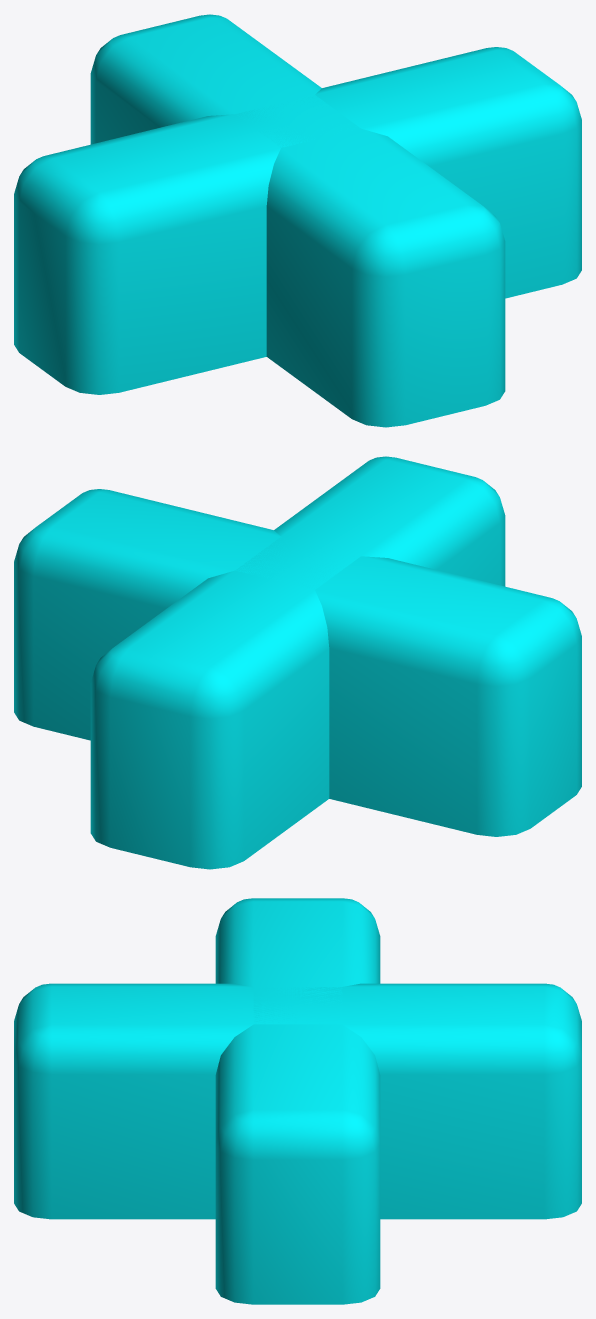
File: DecorMachine_Buttons_ZoomIn.FBX
3 renders of one model, top to bottom at view 1: azimuth 30°, elevation 25°; view 2: azimuth 150°, elevation 25°; view 3: azimuth 270°, elevation 25°, orthographic. The views are drawn at different scales.
Visible parts, largest first — view 1: DecorMachine_Buttons_ZoomIn; view 2: DecorMachine_Buttons_ZoomIn; view 3: DecorMachine_Buttons_ZoomIn.
Boxes of the visible parts, x1,y1,x2,y2 form: DecorMachine_Buttons_ZoomIn: (14, 14, 581, 427); DecorMachine_Buttons_ZoomIn: (14, 456, 581, 869); DecorMachine_Buttons_ZoomIn: (14, 898, 581, 1304).
Bounding box in the file's own units: 1900 × 661 × 1900.
